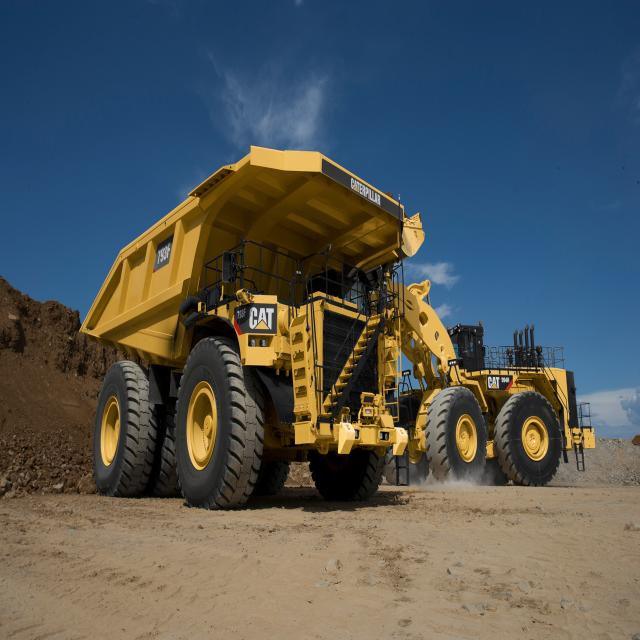buldozerpayloadergrader: (387, 260, 616, 520)
dump_truck: (71, 129, 413, 515)
